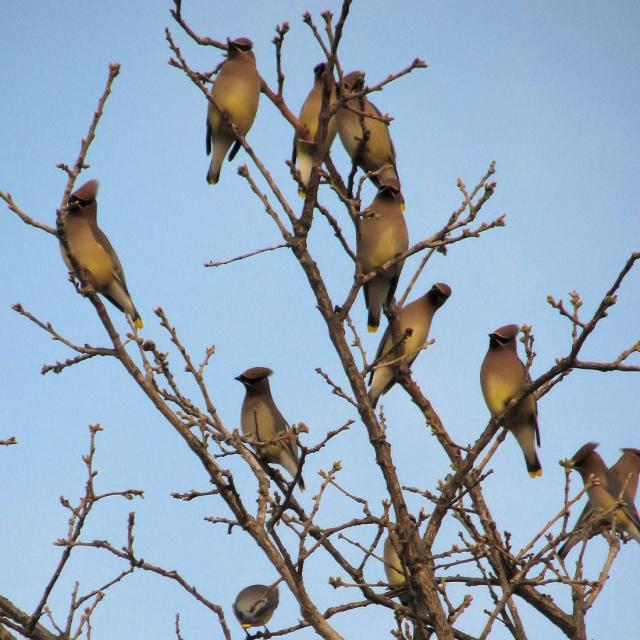bird: (51, 176, 147, 336), (358, 280, 453, 404), (338, 65, 412, 194), (479, 322, 541, 473), (204, 39, 263, 192), (356, 182, 412, 334), (571, 443, 640, 564), (232, 368, 302, 478), (294, 49, 339, 191), (232, 582, 284, 638)
